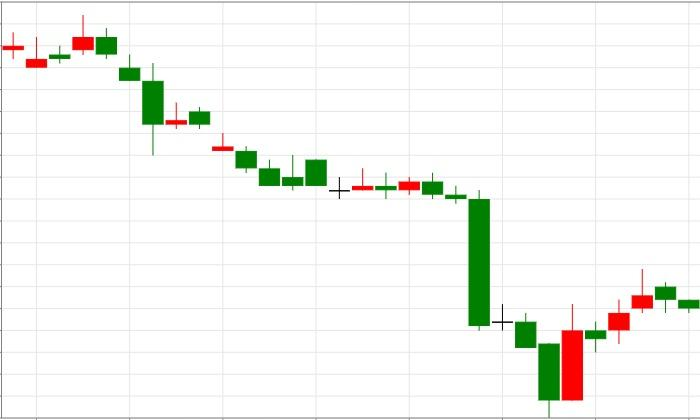three_black_crows_fall: (25, 15, 165, 156)
